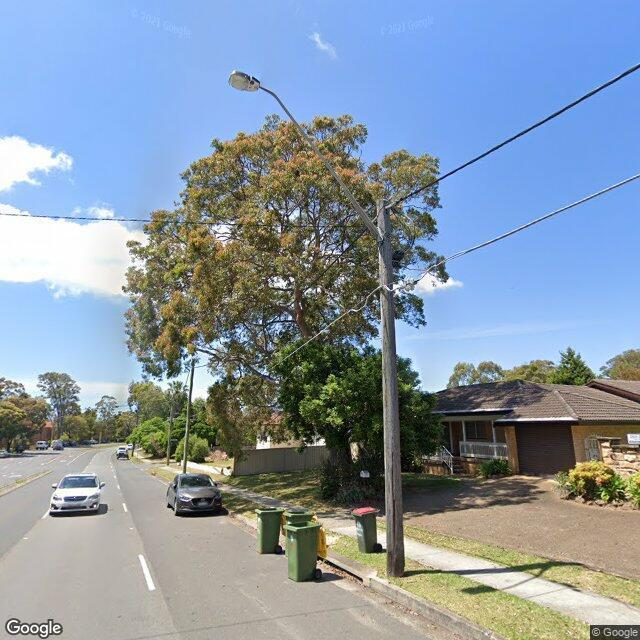streetlight: (228, 70, 384, 246)
timber-pole: (376, 198, 406, 579), (182, 358, 196, 473)
